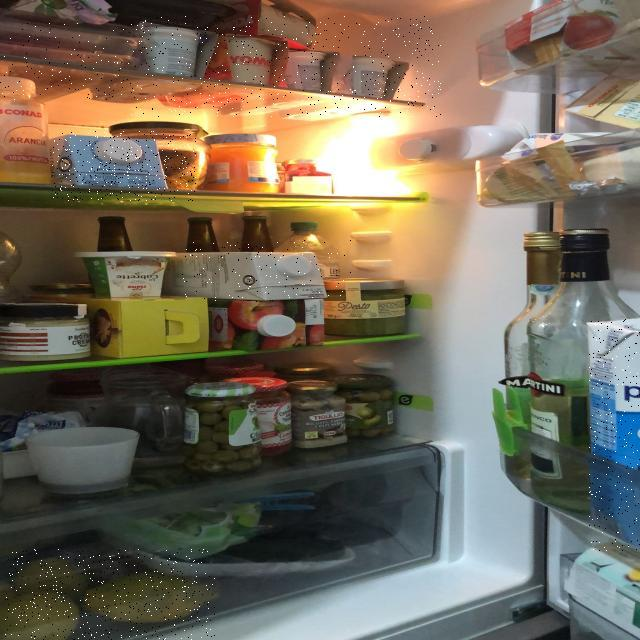ham: (0, 45, 137, 100), (0, 22, 142, 51)
lemon: (5, 549, 215, 640)
milk: (589, 319, 640, 551), (181, 240, 352, 302), (52, 131, 196, 201)
yoghurt: (131, 16, 441, 118)
